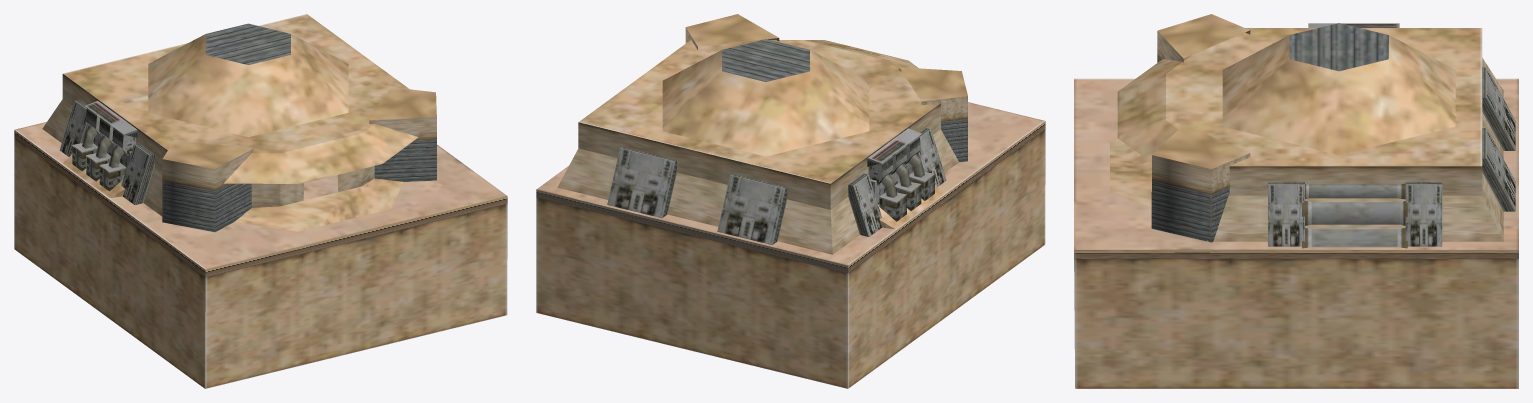
File: ply_tato_cantina_s01_r0_exterior_mesh_l3.fbx
The picture shows the model from 3 angles, left to right: view 1: azimuth 30°, elevation 25°; view 2: azimuth 150°, elevation 25°; view 3: azimuth 270°, elevation 25°; orthographic projection. The views are drawn at different scales.
Visible parts, largest first — view 1: mesh_node; view 2: mesh_node; view 3: mesh_node.
Part boxes in pixels (x1,y1,x2,y2): mesh_node: (14, 14, 507, 388); mesh_node: (536, 14, 1045, 388); mesh_node: (1074, 14, 1518, 388).
Bounding box in the file's own units: 35.38 × 24.98 × 38.83.
Materials: 1 (1 with a texture image).
